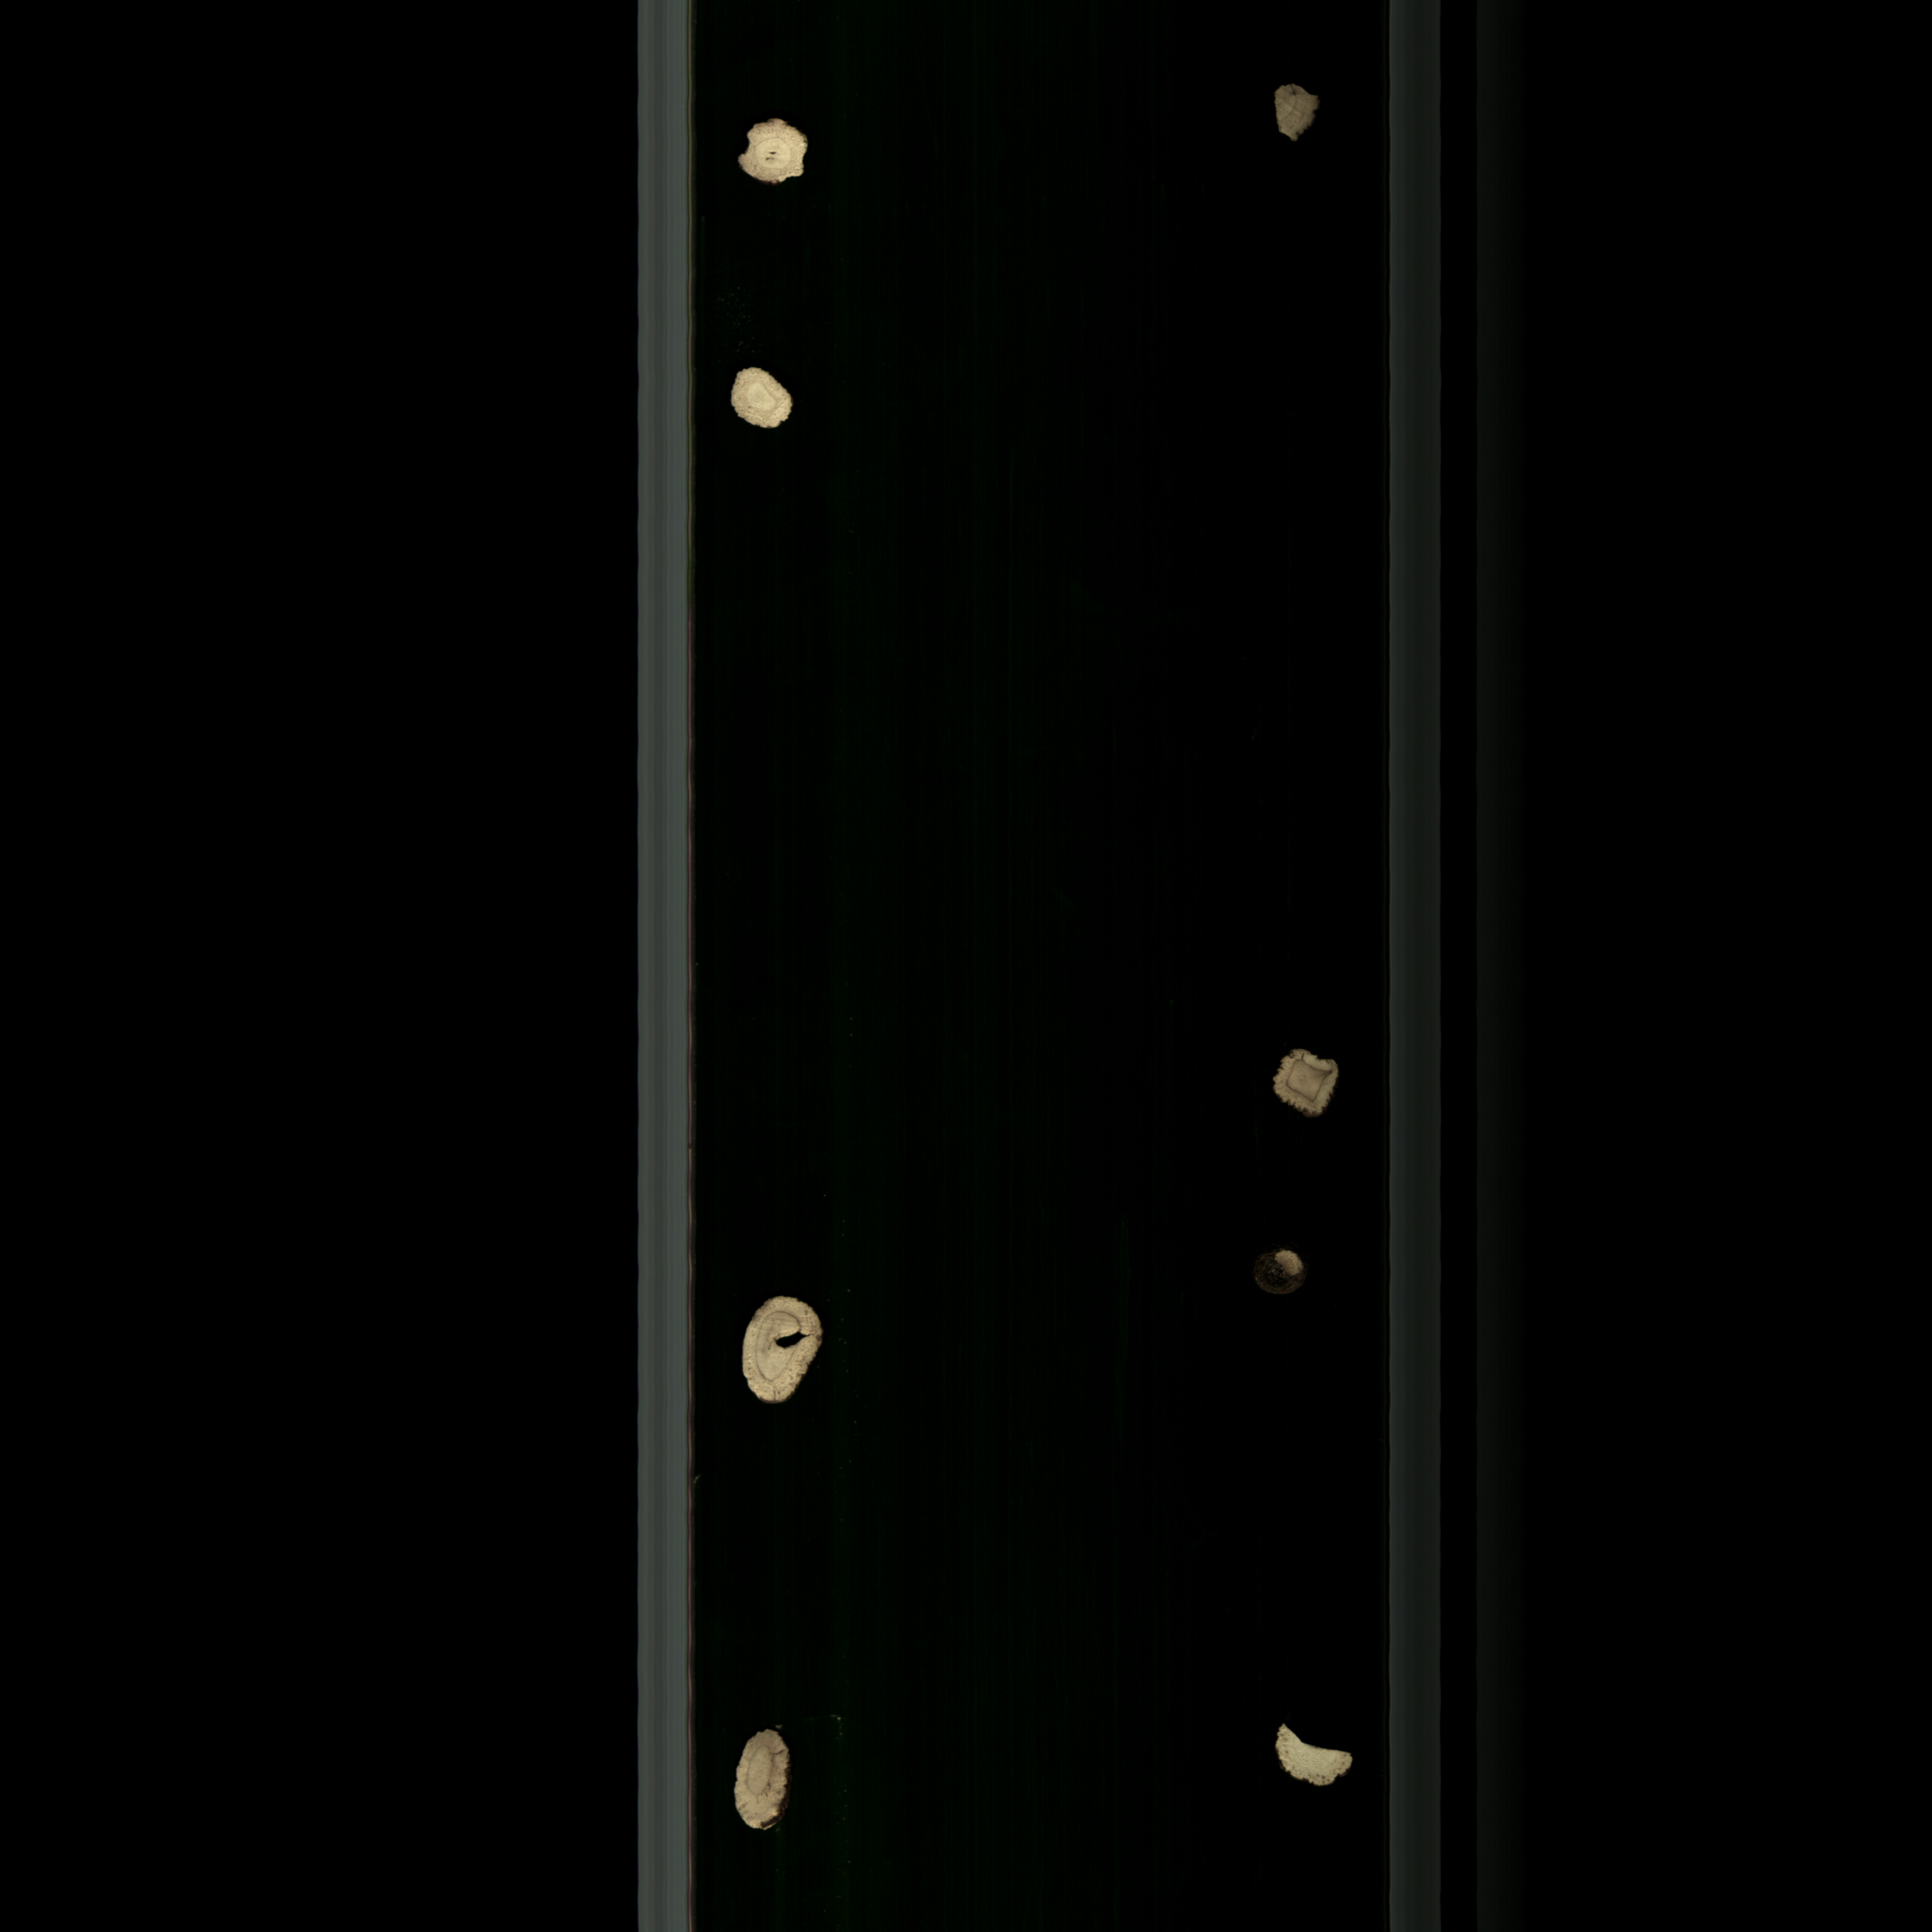bark: (1235, 1233, 1345, 1327)
debris: (717, 106, 824, 205), (1261, 1718, 1362, 1808)
distortion: (718, 1702, 823, 1856), (713, 352, 814, 449)
hole: (725, 1283, 842, 1422)
moldy: (1256, 1026, 1361, 1148), (1254, 78, 1327, 157)
